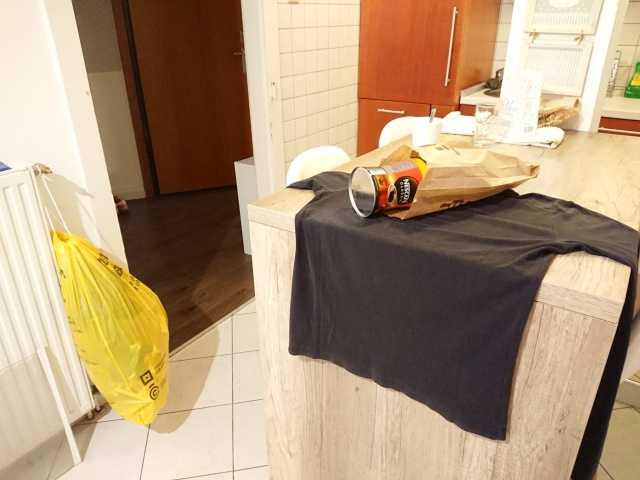Nescafe Classic 225g: (346, 155, 438, 222)
